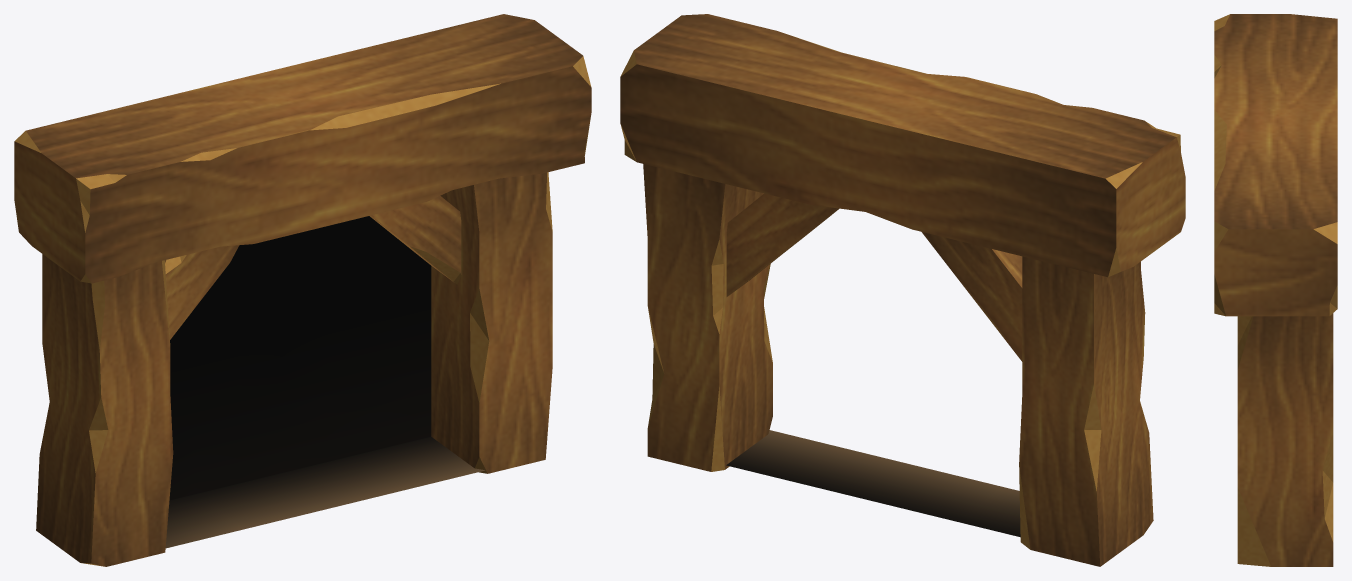
The model's file is DungeonEntrance 1.fbx.
The picture shows the model from 3 angles, left to right: view 1: azimuth 30°, elevation 25°; view 2: azimuth 150°, elevation 25°; view 3: azimuth 270°, elevation 25°; orthographic projection. The views are drawn at different scales.
Visible parts, largest first — view 1: DungeonEntrance; view 2: DungeonEntrance; view 3: DungeonEntrance.
Boxes of the visible parts, x1=… form: DungeonEntrance: x1=14, y1=14, x2=591, y2=566; DungeonEntrance: x1=620, y1=14, x2=1185, y2=566; DungeonEntrance: x1=1214, y1=14, x2=1337, y2=566.
Bounding box in the file's own units: 2.65 × 2 × 0.6412.
